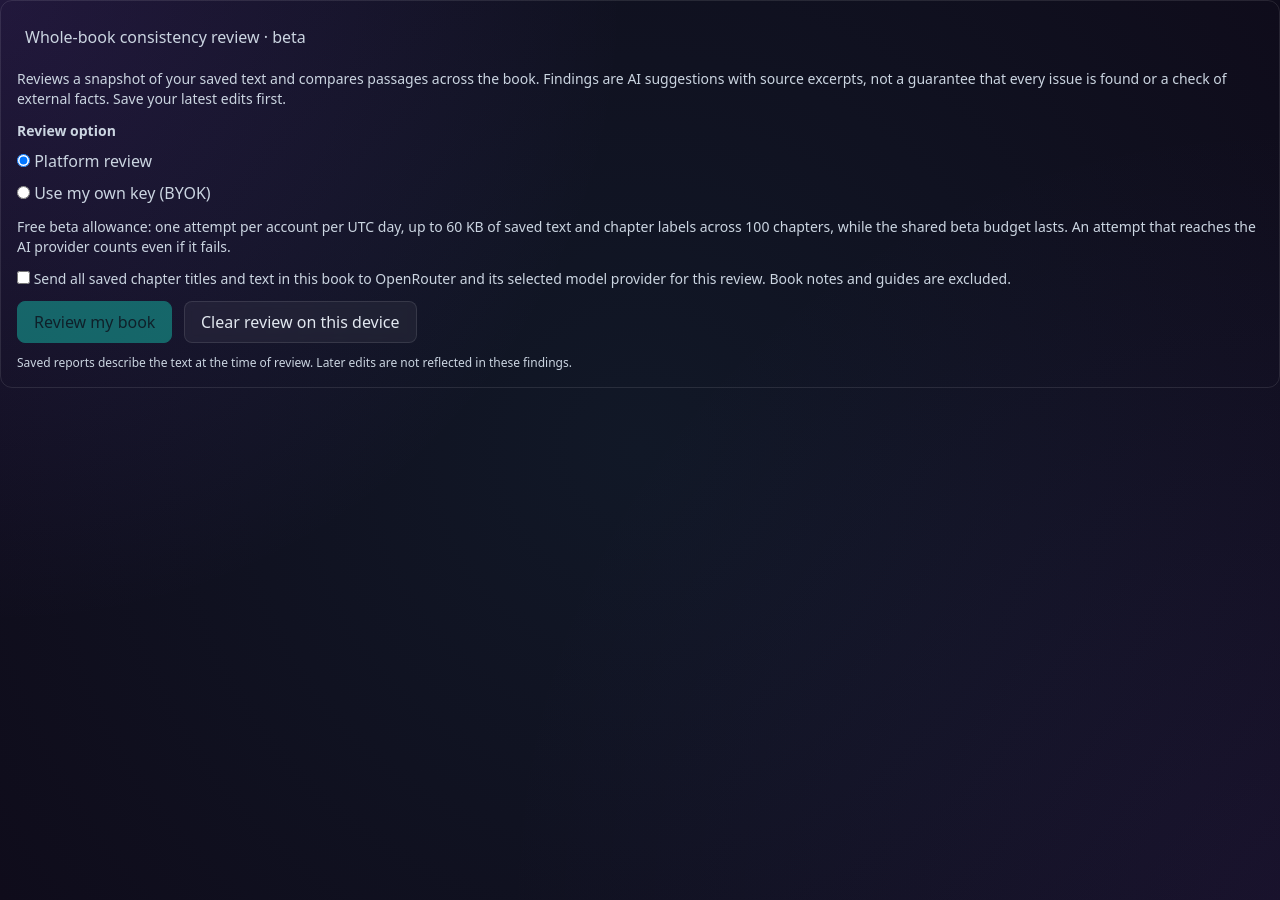
defaults to platform, requires separate consent and never switches providers after failure
The image size is (1280, 900).
Expected: the radio button labelled "Platform review" is checked, [17,154,30,167]
Expected: the button "Review my book" is disabled, [17,301,172,343]
Click the checkbox labelled "Send all saved chapter titles" at (24, 278), box [17,271,30,284]
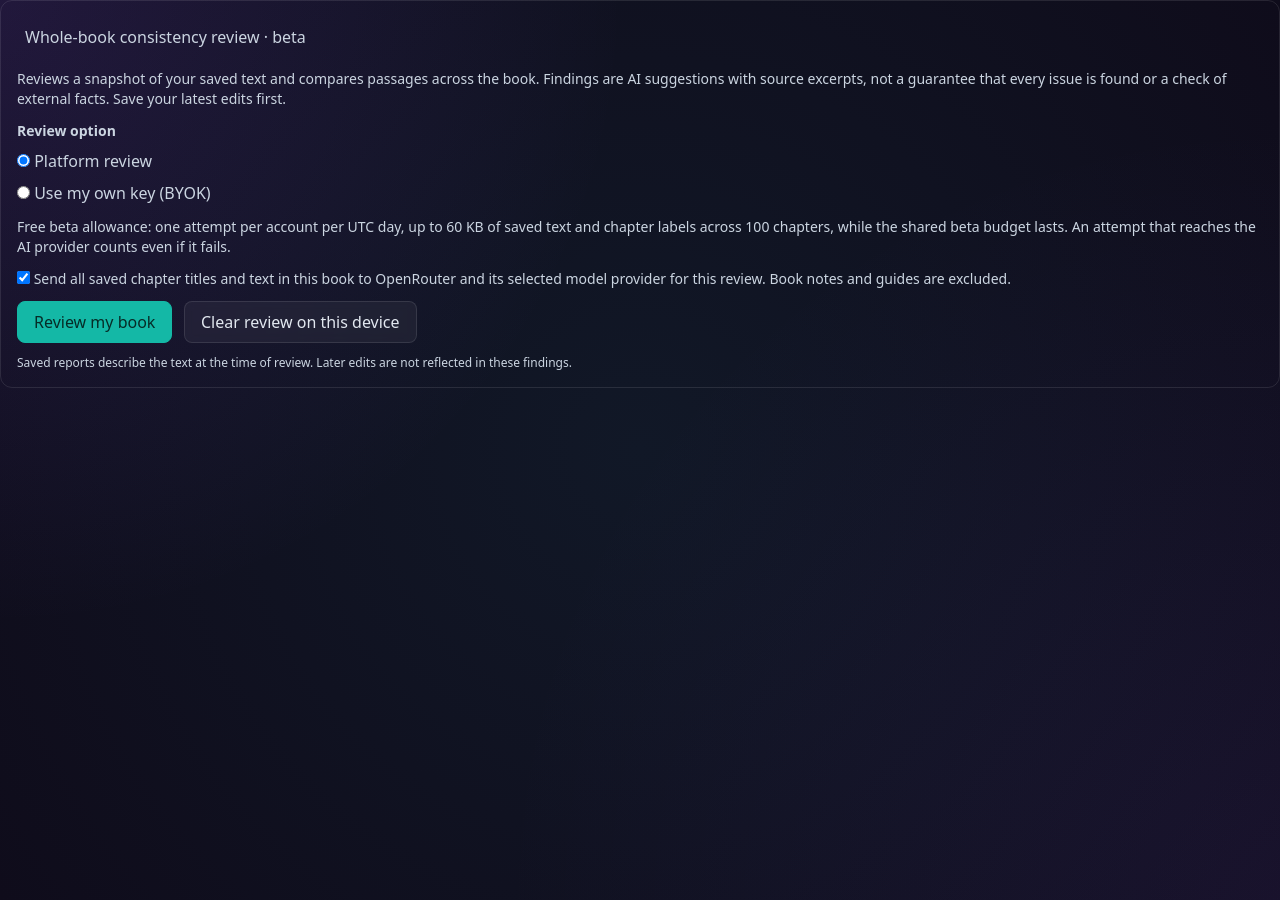
Click the button "Review my book" at (95, 322), box [17,301,172,343]
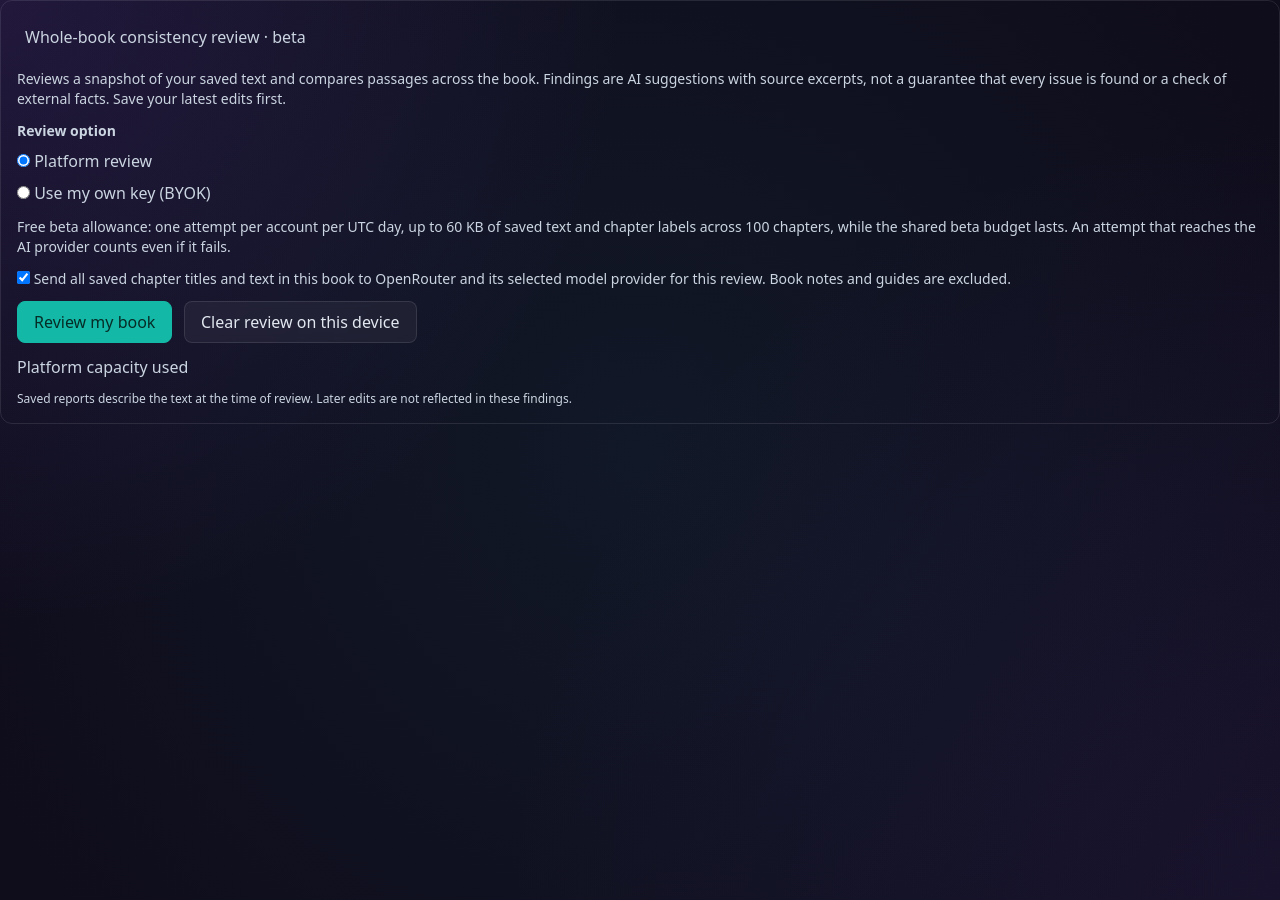
Expected: the text "Platform capacity used" is shown, [17,356,188,378]
Click the radio button labelled "Use my own key (BYOK)" at (24, 192), box [17,186,30,199]
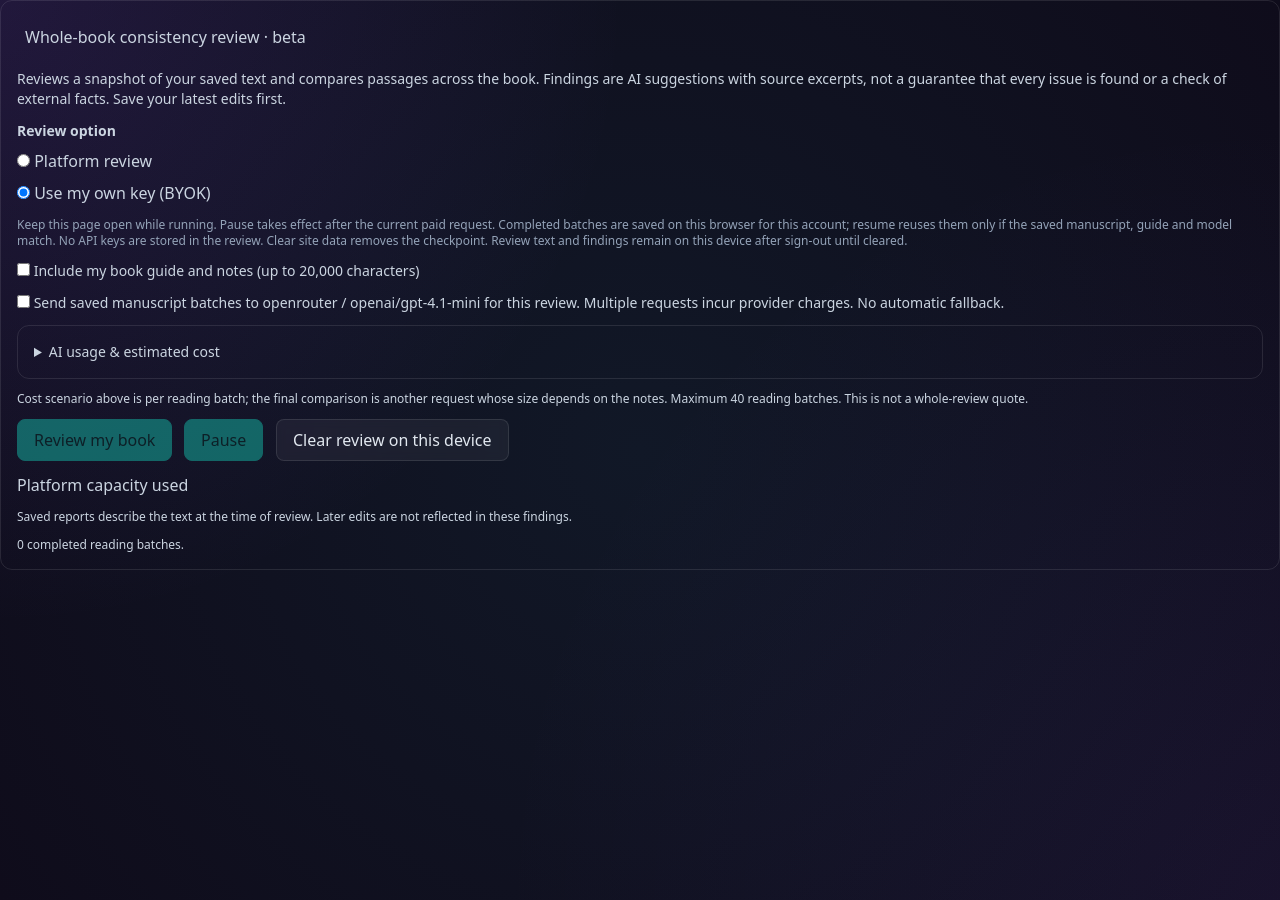
Expected: the checkbox labelled "Send saved manuscript batches" is not checked, [17,295,30,308]
Expected: the button "Review my book" is disabled, [17,419,172,461]
